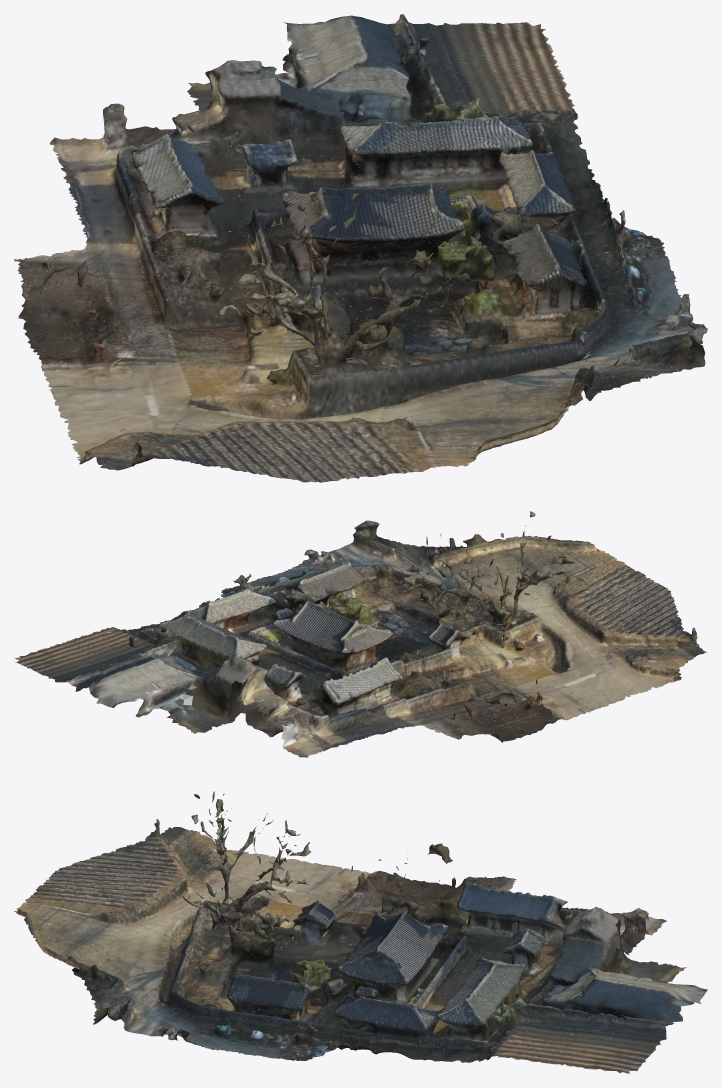
The model's file is seoseok.glb.
3 renders of one model, top to bottom at view 1: azimuth 30°, elevation 25°; view 2: azimuth 150°, elevation 25°; view 3: azimuth 270°, elevation 25°, orthographic. The views are drawn at different scales.
Parts seen in each view (by area): view 1: Stereo textured mesh, Stereo textured mesh_Material0_0.001, Stereo textured mesh_Material0_0.002; view 2: Stereo textured mesh_Material0_0.001, Stereo textured mesh, Stereo textured mesh_Material0_0.002; view 3: Stereo textured mesh, Stereo textured mesh_Material0_0.001, Stereo textured mesh_Material0_0.002.
Part boxes in pixels (x1,y1,x2,y2): Stereo textured mesh: [15, 15, 707, 482]; Stereo textured mesh_Material0_0.001: [14, 14, 704, 482]; Stereo textured mesh_Material0_0.002: [24, 22, 702, 477]; Stereo textured mesh_Material0_0.001: [14, 511, 702, 757]; Stereo textured mesh: [48, 511, 707, 757]; Stereo textured mesh_Material0_0.002: [47, 512, 704, 749]; Stereo textured mesh: [16, 791, 700, 1066]; Stereo textured mesh_Material0_0.001: [14, 788, 702, 1073]; Stereo textured mesh_Material0_0.002: [20, 794, 707, 1056].
Size of the model in its own units: 55.7 by 14.38 by 60.
1 material, 1 textured.
